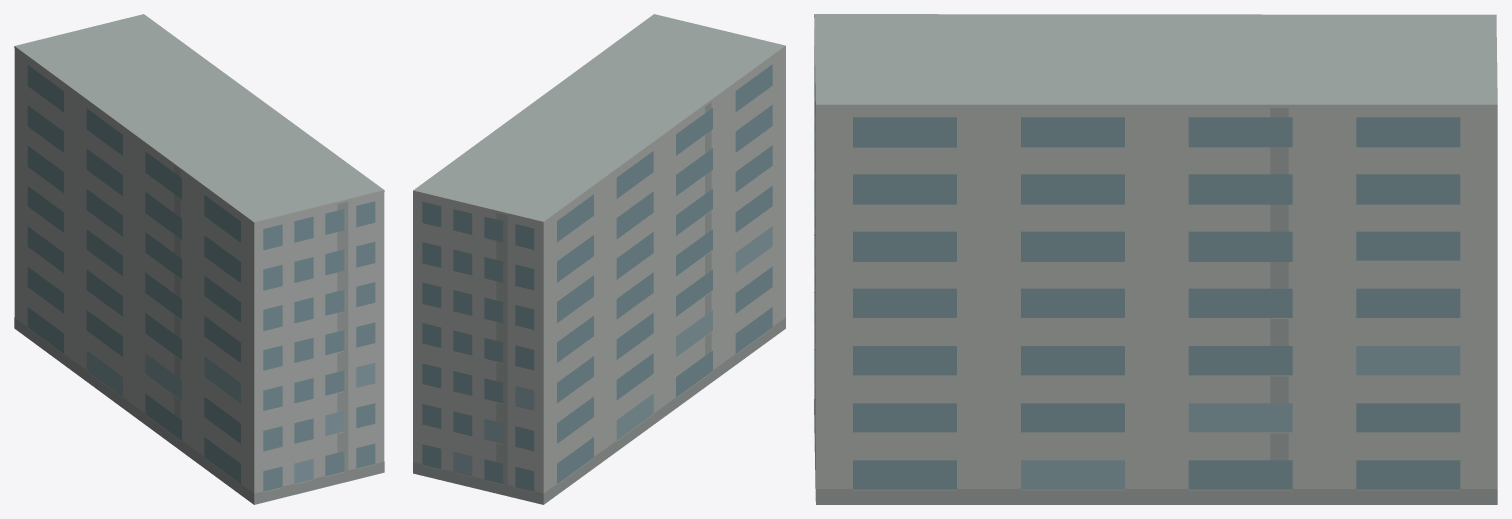
The model's file is survey-upis-32766008.glb.
3 views of the same model, side by side, from view 1: azimuth 30°, elevation 25°; view 2: azimuth 150°, elevation 25°; view 3: azimuth 270°, elevation 25° (orthographic). The views are drawn at different scales.
Visible parts, largest first — view 1: survey-upis-32766008.tmp; view 2: survey-upis-32766008.tmp; view 3: survey-upis-32766008.tmp.
Part boxes in pixels (left/top/right/bottom): survey-upis-32766008.tmp: left=14, top=14, right=384, bottom=504; survey-upis-32766008.tmp: left=413, top=14, right=785, bottom=504; survey-upis-32766008.tmp: left=814, top=14, right=1497, bottom=504.
Size of the model in its own units: 13.93 by 28.7 by 44.41.
